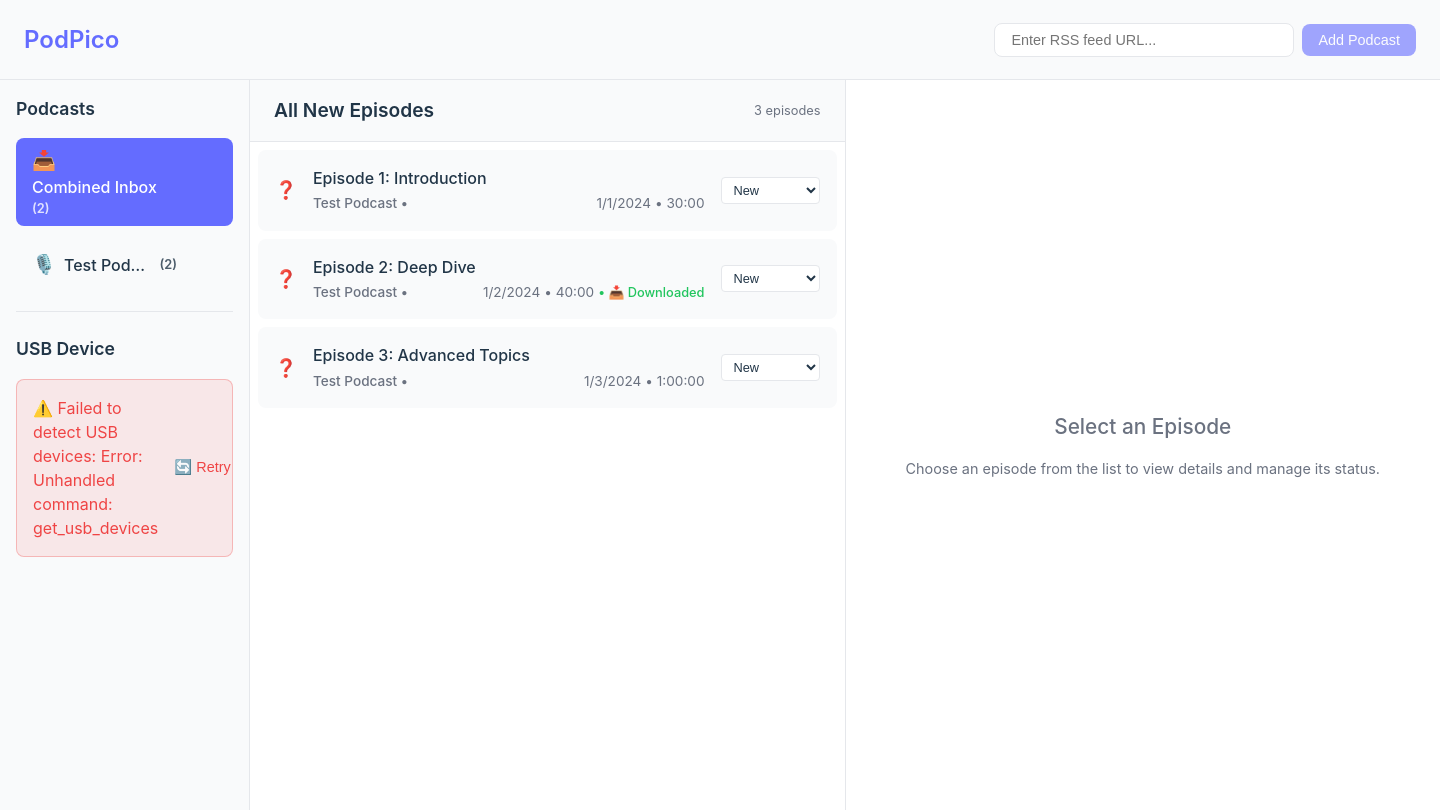
Scenario: User Story #3: Download Episodes - End-to-End Integration Tests › Multi-Episode Download Management › should prevent multiple simultaneous downloads
The width and height of the screenshot is (1440, 810).
Check: the heading "PodPico" is shown, box left=24, top=22, right=119, bottom=58
Click the text "Test Podcast". click: (108, 265)
box: left=64, top=253, right=152, bottom=277
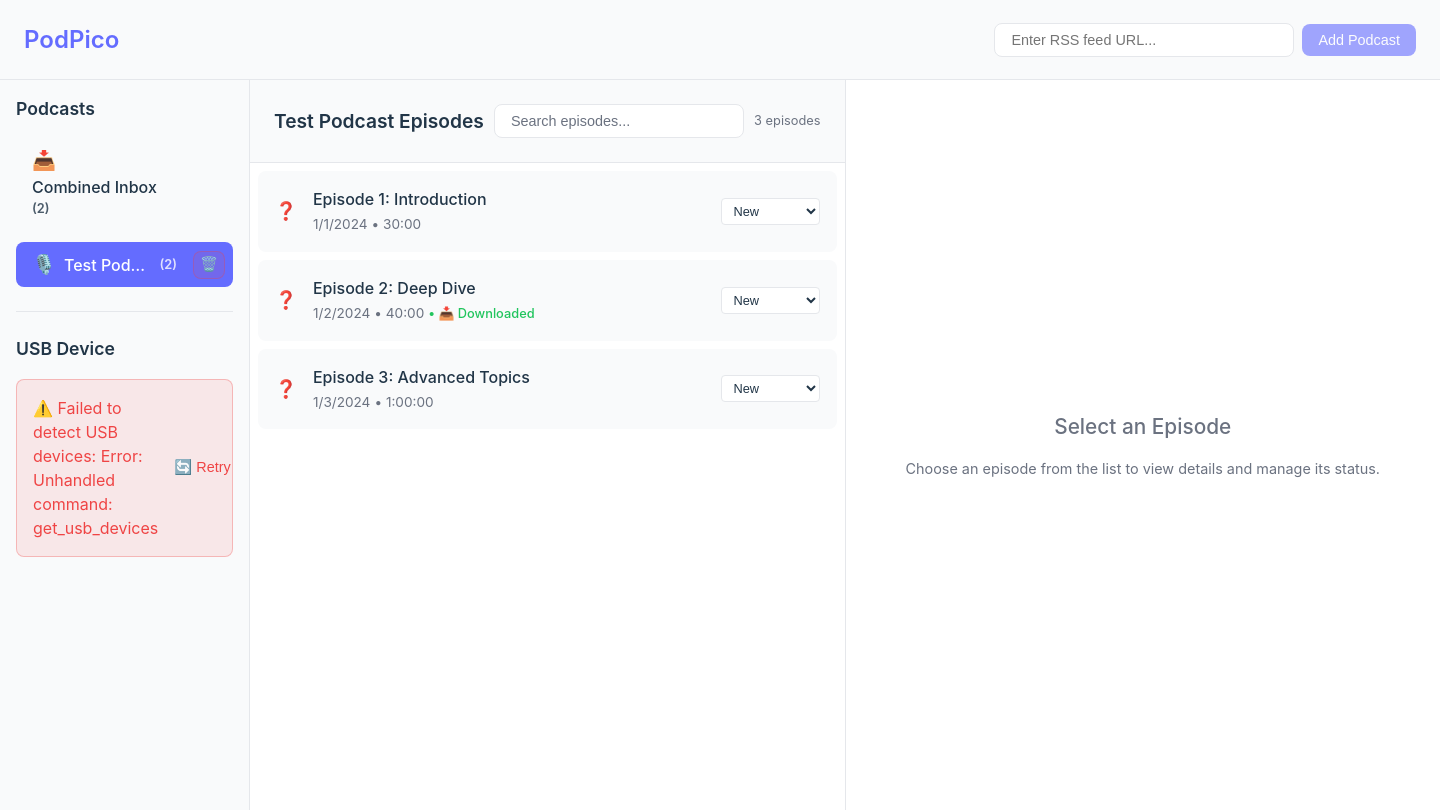
// Start download on first episode
Click the heading "Episode 1: Introduction". click: (400, 199)
box: left=313, top=189, right=487, bottom=209
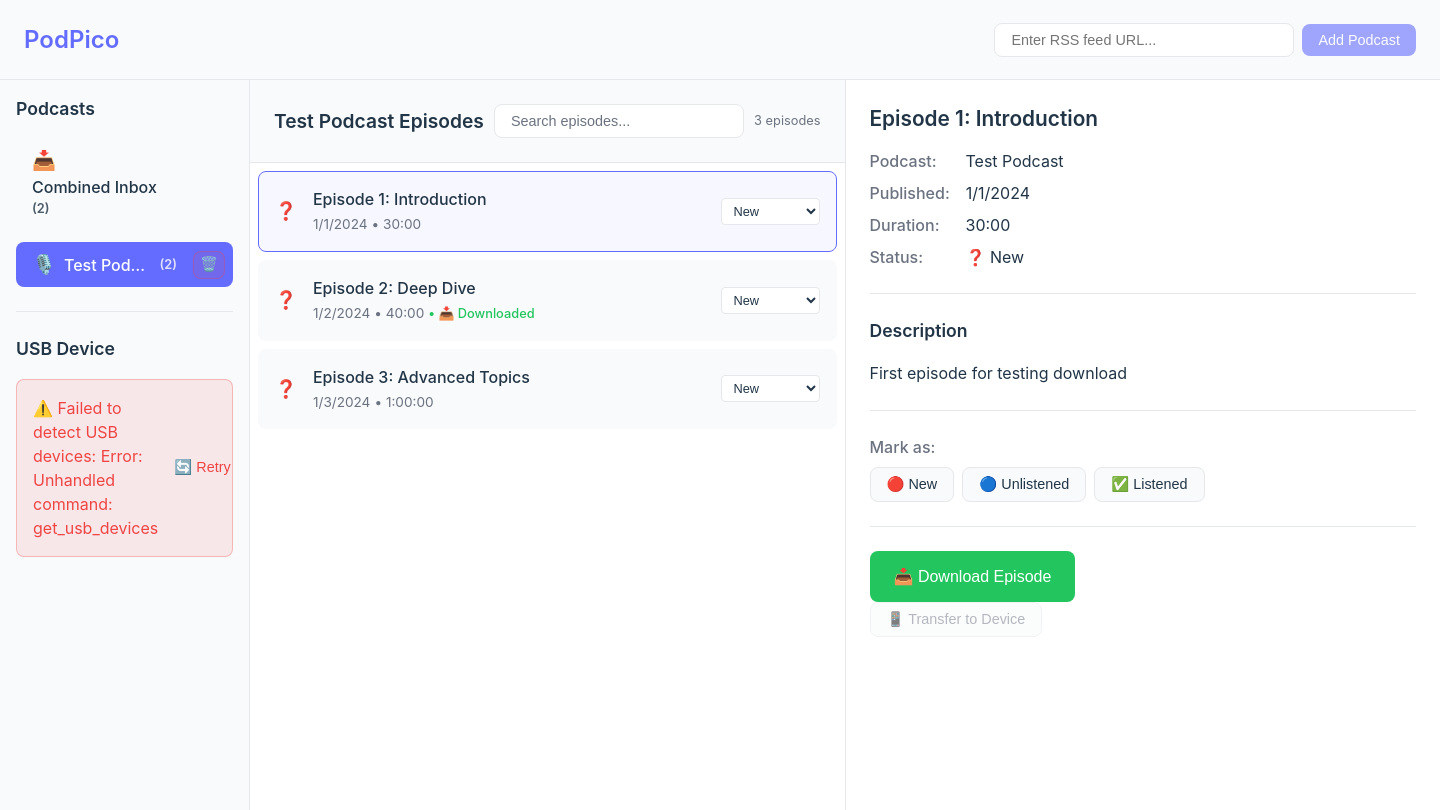
Click the button "📥 Download Episode". click: (972, 577)
box: left=870, top=551, right=1075, bottom=602
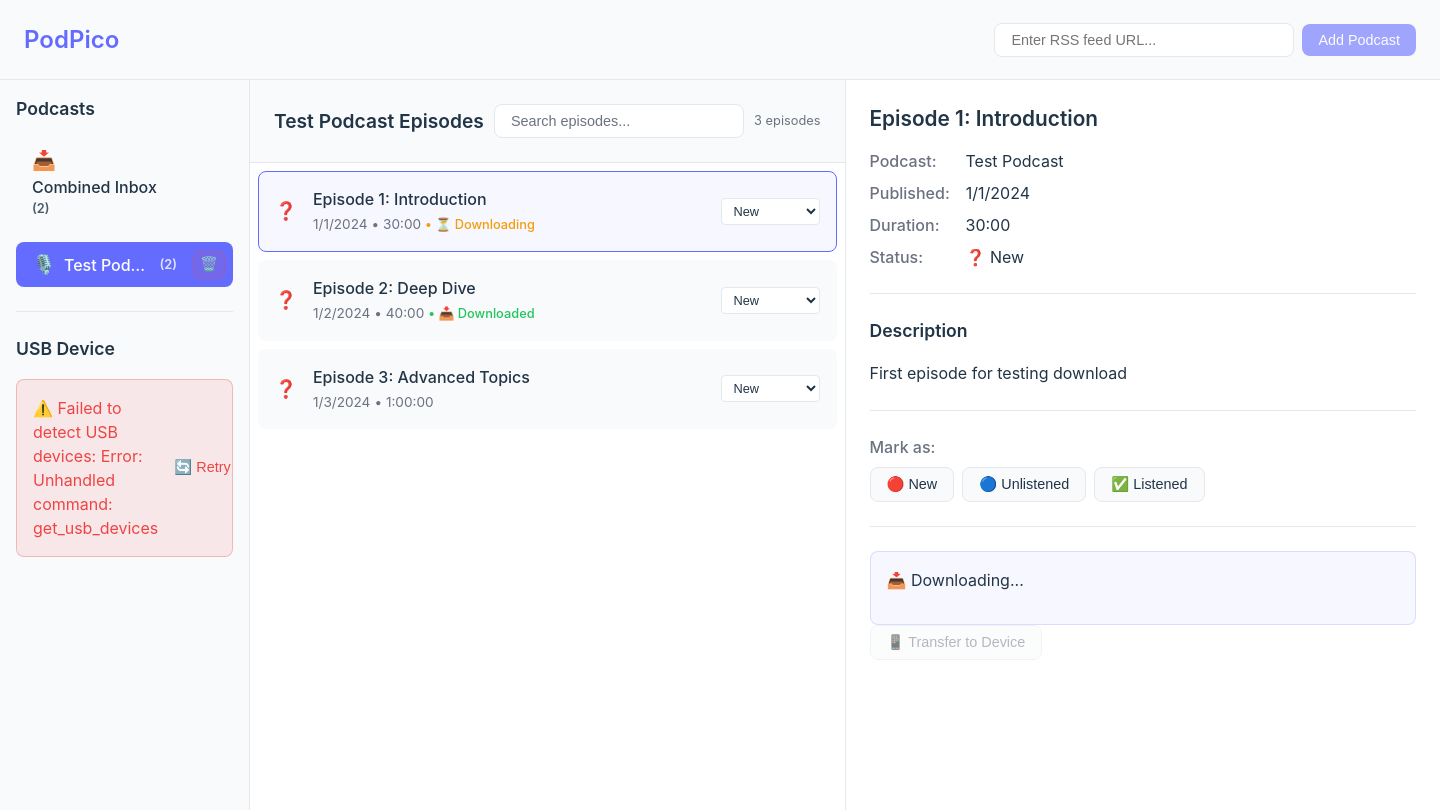
Check: the text "📥 Downloading..." is shown, box left=886, top=568, right=1024, bottom=592
// Try to select another episode
Click the heading "Episode 3: Advanced Topics". click: (422, 377)
box: left=313, top=367, right=530, bottom=387
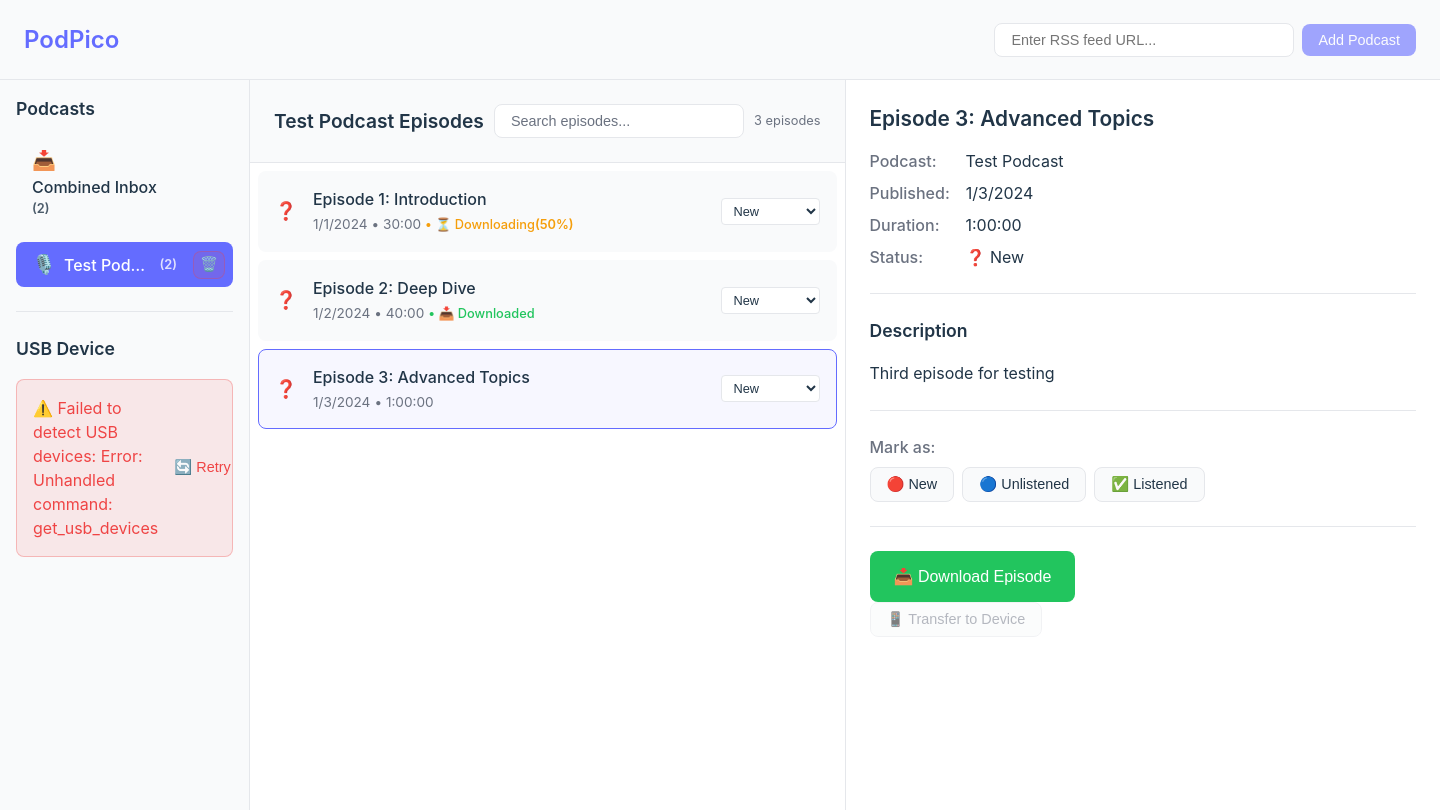
Check: the button "📥 Download Episode" is shown, box left=870, top=551, right=1075, bottom=602
